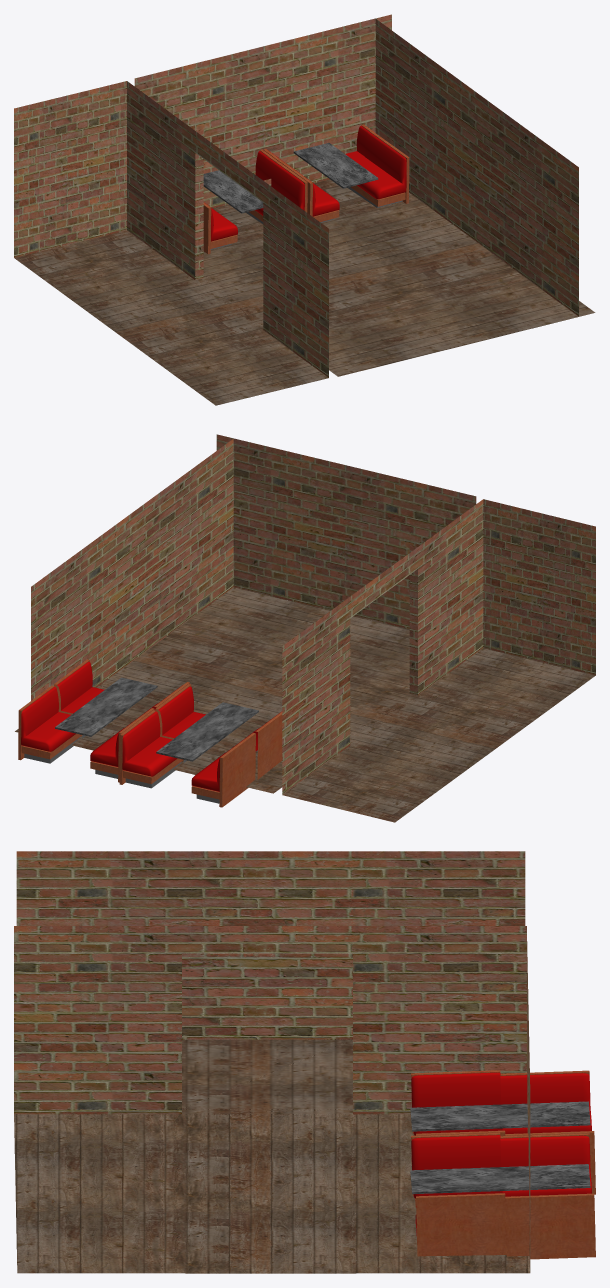
Rendered from room3.glb.
3 views of the same model, one above another, from view 1: azimuth 30°, elevation 25°; view 2: azimuth 150°, elevation 25°; view 3: azimuth 270°, elevation 25° (orthographic). The views are drawn at different scales.
Parts seen in each view (by area): view 1: Plane, Material2.010, Material2.001, Material2.066, Material2.057, Material2.009, Material2.013, Material2.055, Material2.054, Material2.012; view 2: Plane, Material2.001, Material2.066, Material2.060, Material2.007, Material2.064, Material2.057, Material2.010, Material2.055, Material2.006, Material2.061, Material2.004 (+1 smaller); view 3: Plane, Material2.006, Material2.009, Material2.001, Material2.066, Material2.054, Material2.013, Material2.004, Material2.063, Material2.061.
Boxes of the visible parts, x1,y1,x2,y2 form: Plane: (14, 14, 595, 405); Material2.010: (354, 132, 406, 199); Material2.001: (293, 143, 378, 188); Material2.066: (203, 170, 263, 213); Material2.057: (255, 156, 304, 215); Material2.009: (351, 130, 409, 206); Material2.013: (277, 157, 339, 216); Material2.055: (203, 202, 237, 254); Material2.054: (204, 202, 237, 241); Material2.012: (273, 156, 339, 221); Plane: (15, 434, 595, 822); Material2.001: (55, 677, 157, 736); Material2.066: (156, 702, 258, 761); Material2.060: (122, 711, 177, 776); Material2.007: (21, 686, 75, 751); Material2.064: (191, 733, 255, 807); Material2.057: (158, 686, 205, 738); Material2.010: (57, 662, 104, 713); Material2.055: (255, 711, 282, 779); Material2.006: (18, 685, 82, 760); Material2.061: (119, 710, 183, 784); Material2.004: (90, 708, 150, 766); Plane: (14, 851, 530, 1273); Material2.006: (505, 1193, 595, 1259); Material2.009: (416, 1193, 506, 1256); Material2.001: (410, 1164, 590, 1194); Material2.066: (410, 1101, 590, 1131); Material2.054: (411, 1072, 502, 1135); Material2.013: (411, 1135, 502, 1198); Material2.004: (500, 1135, 591, 1196); Material2.063: (500, 1073, 591, 1133); Material2.061: (505, 1131, 595, 1194).
Size of the model in its own units: 5.08 by 1.95 by 5.34.
Materials: 10 (6 with a texture image).
